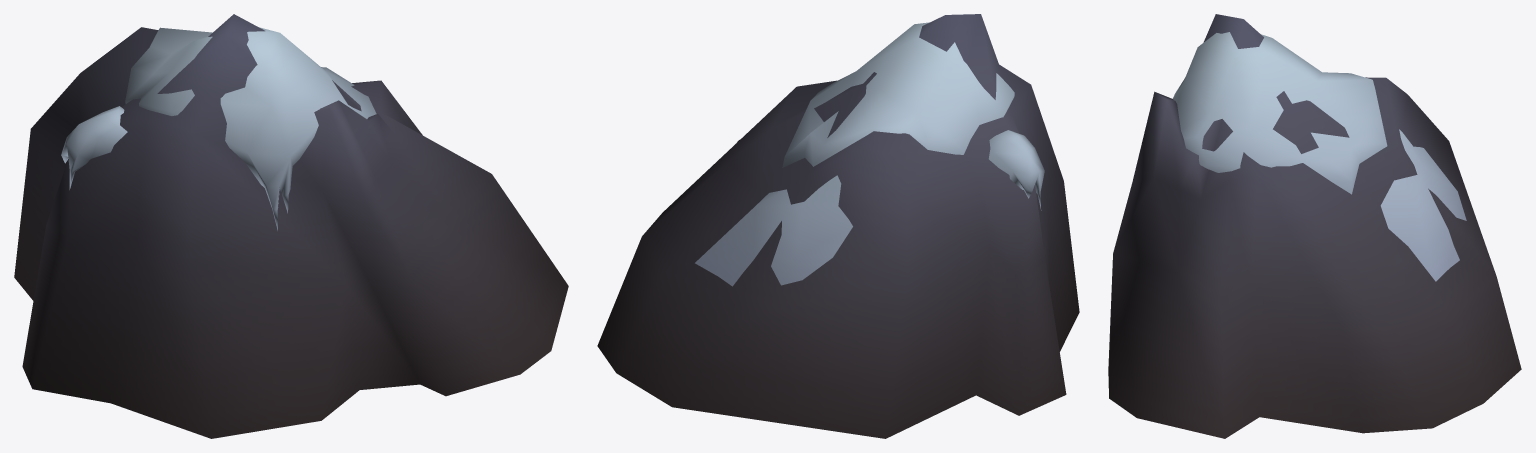
The model's file is rocks01_a.glb.
3 renders of one model, left to right at view 1: azimuth 30°, elevation 25°; view 2: azimuth 150°, elevation 25°; view 3: azimuth 270°, elevation 25°, orthographic. The views are drawn at different scales.
Parts seen in each view (by area): view 1: Plane.002; view 2: Plane.002; view 3: Plane.002.
Part boxes in pixels (<box>): Plane.002: <box>14,14,568,438</box>; Plane.002: <box>597,14,1079,438</box>; Plane.002: <box>1108,14,1521,438</box>.
Size of the model in its own units: 6.04 by 4.27 by 5.24.
1 material, 1 textured.
